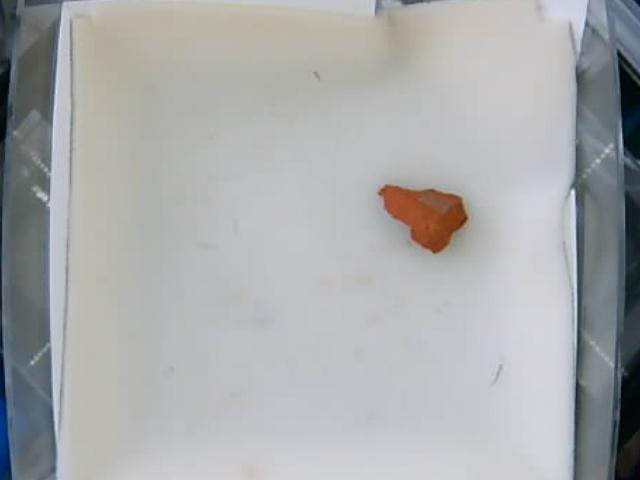Brisk: (379, 180, 467, 252)
